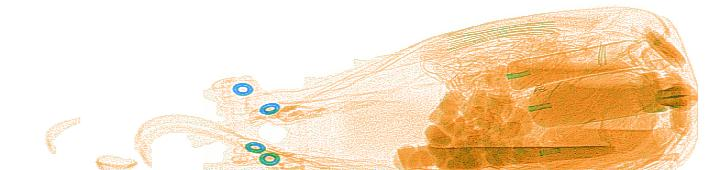plasticBottleWithaNozzle: (497, 64, 669, 129), (483, 33, 664, 92)
